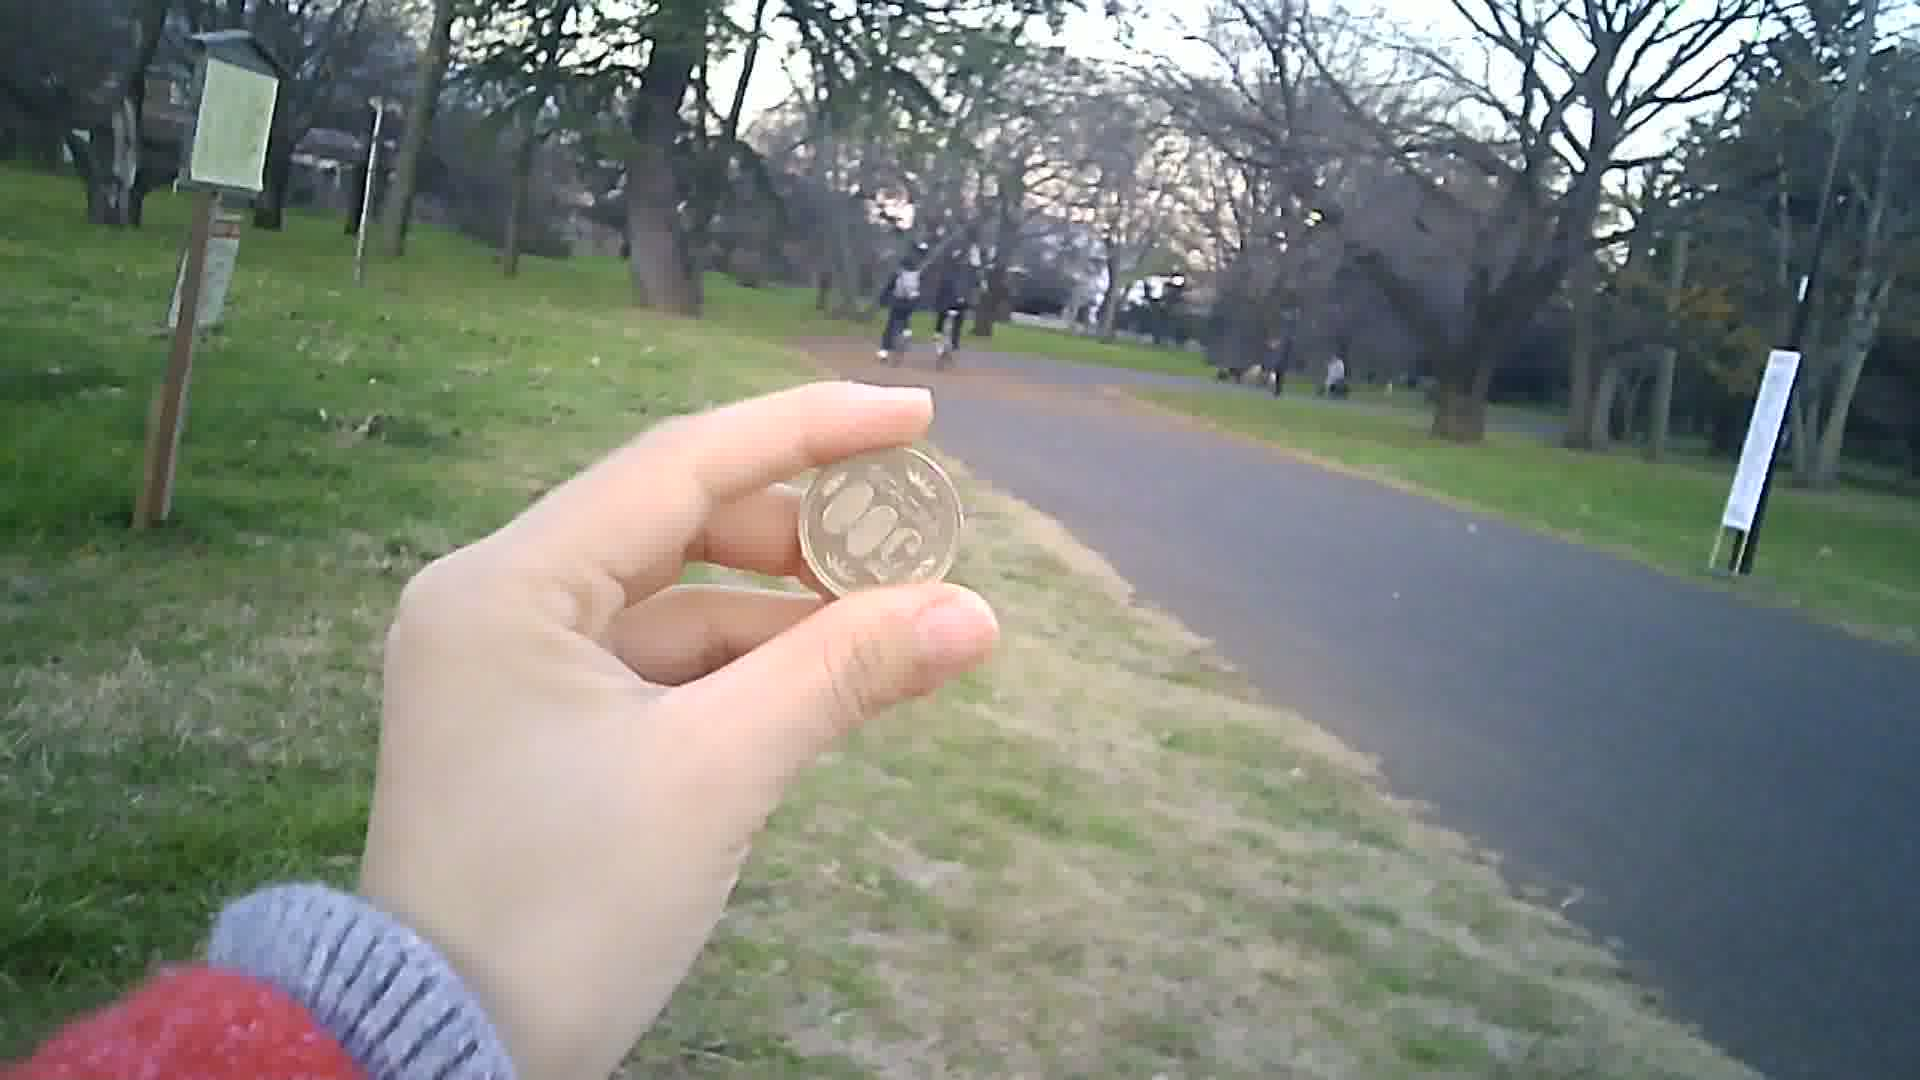500 Yen: (802, 429, 968, 597)
